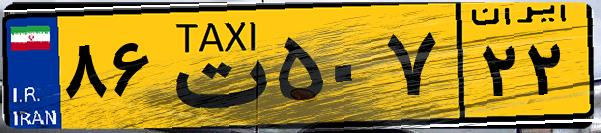0: (330, 28, 385, 110)
2: (475, 38, 525, 113), (525, 38, 570, 115)
5: (270, 28, 330, 110)
6: (110, 28, 158, 98)
7: (385, 28, 445, 110)
8: (57, 26, 110, 100)
ت: (158, 12, 270, 120)
